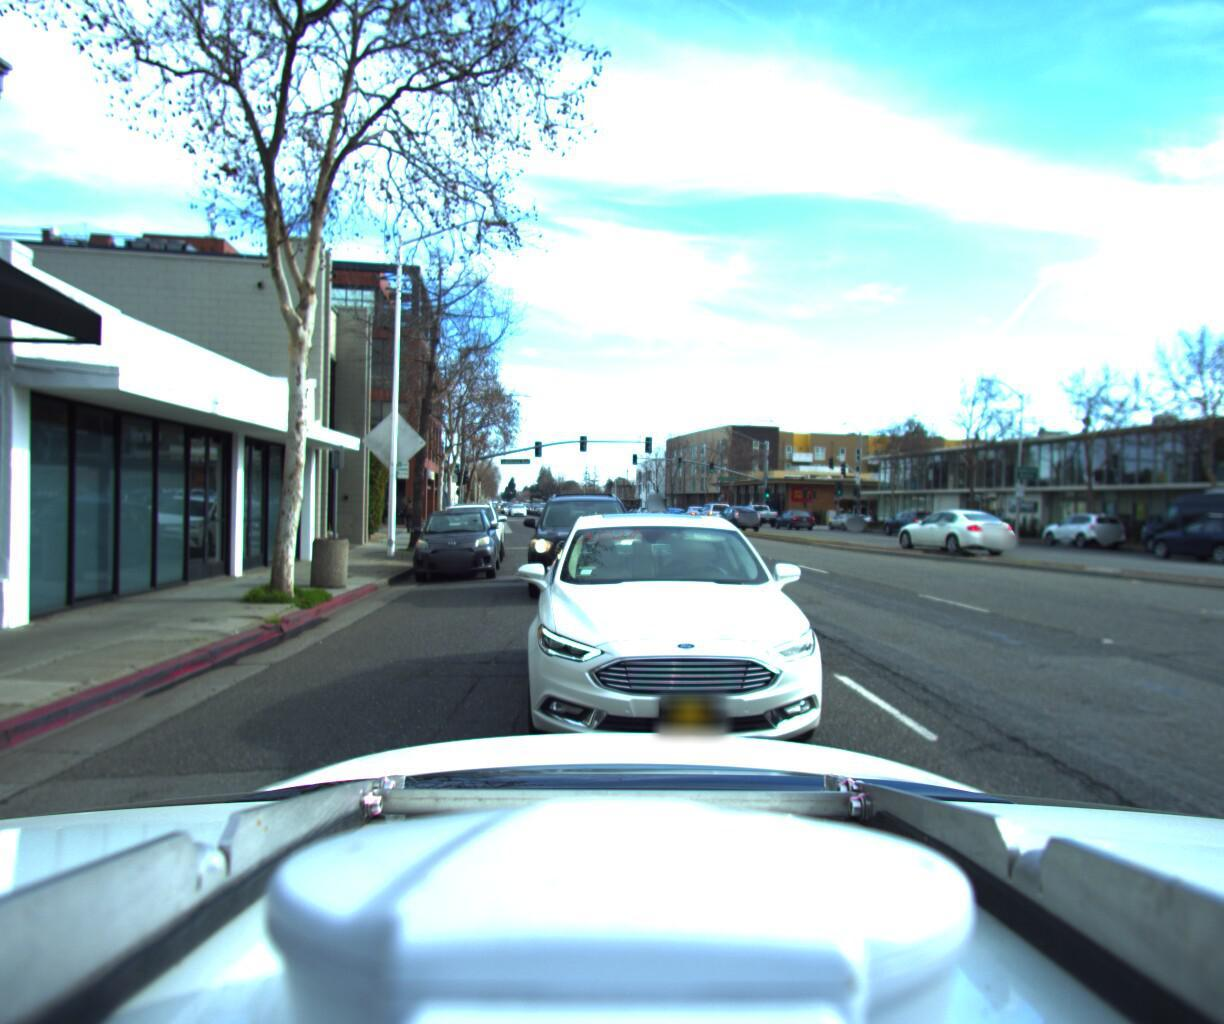car: (494, 503, 854, 812), (526, 487, 641, 601), (405, 504, 500, 583), (1134, 480, 1224, 560), (882, 502, 1008, 551), (1126, 505, 1224, 556), (426, 497, 505, 558), (1037, 504, 1131, 547), (871, 501, 932, 530), (712, 497, 763, 525), (690, 498, 734, 522), (774, 500, 817, 523), (674, 497, 712, 520), (827, 509, 871, 528), (653, 498, 689, 518), (743, 499, 779, 519)
